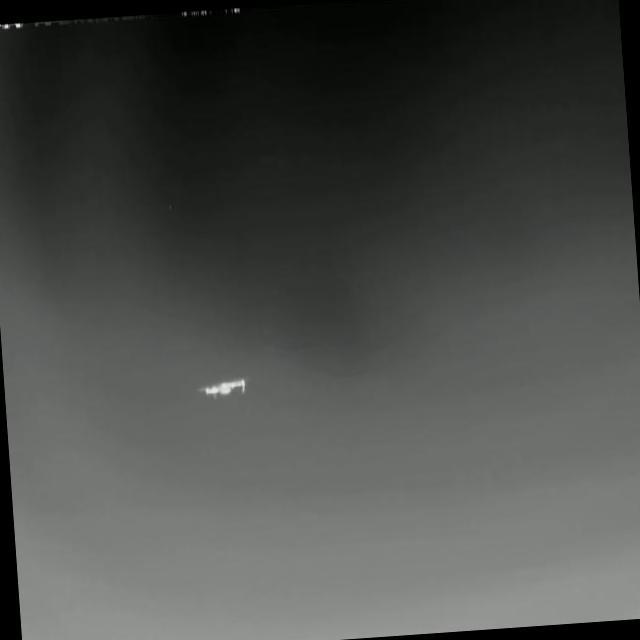DRONE: (193, 368, 256, 405)
